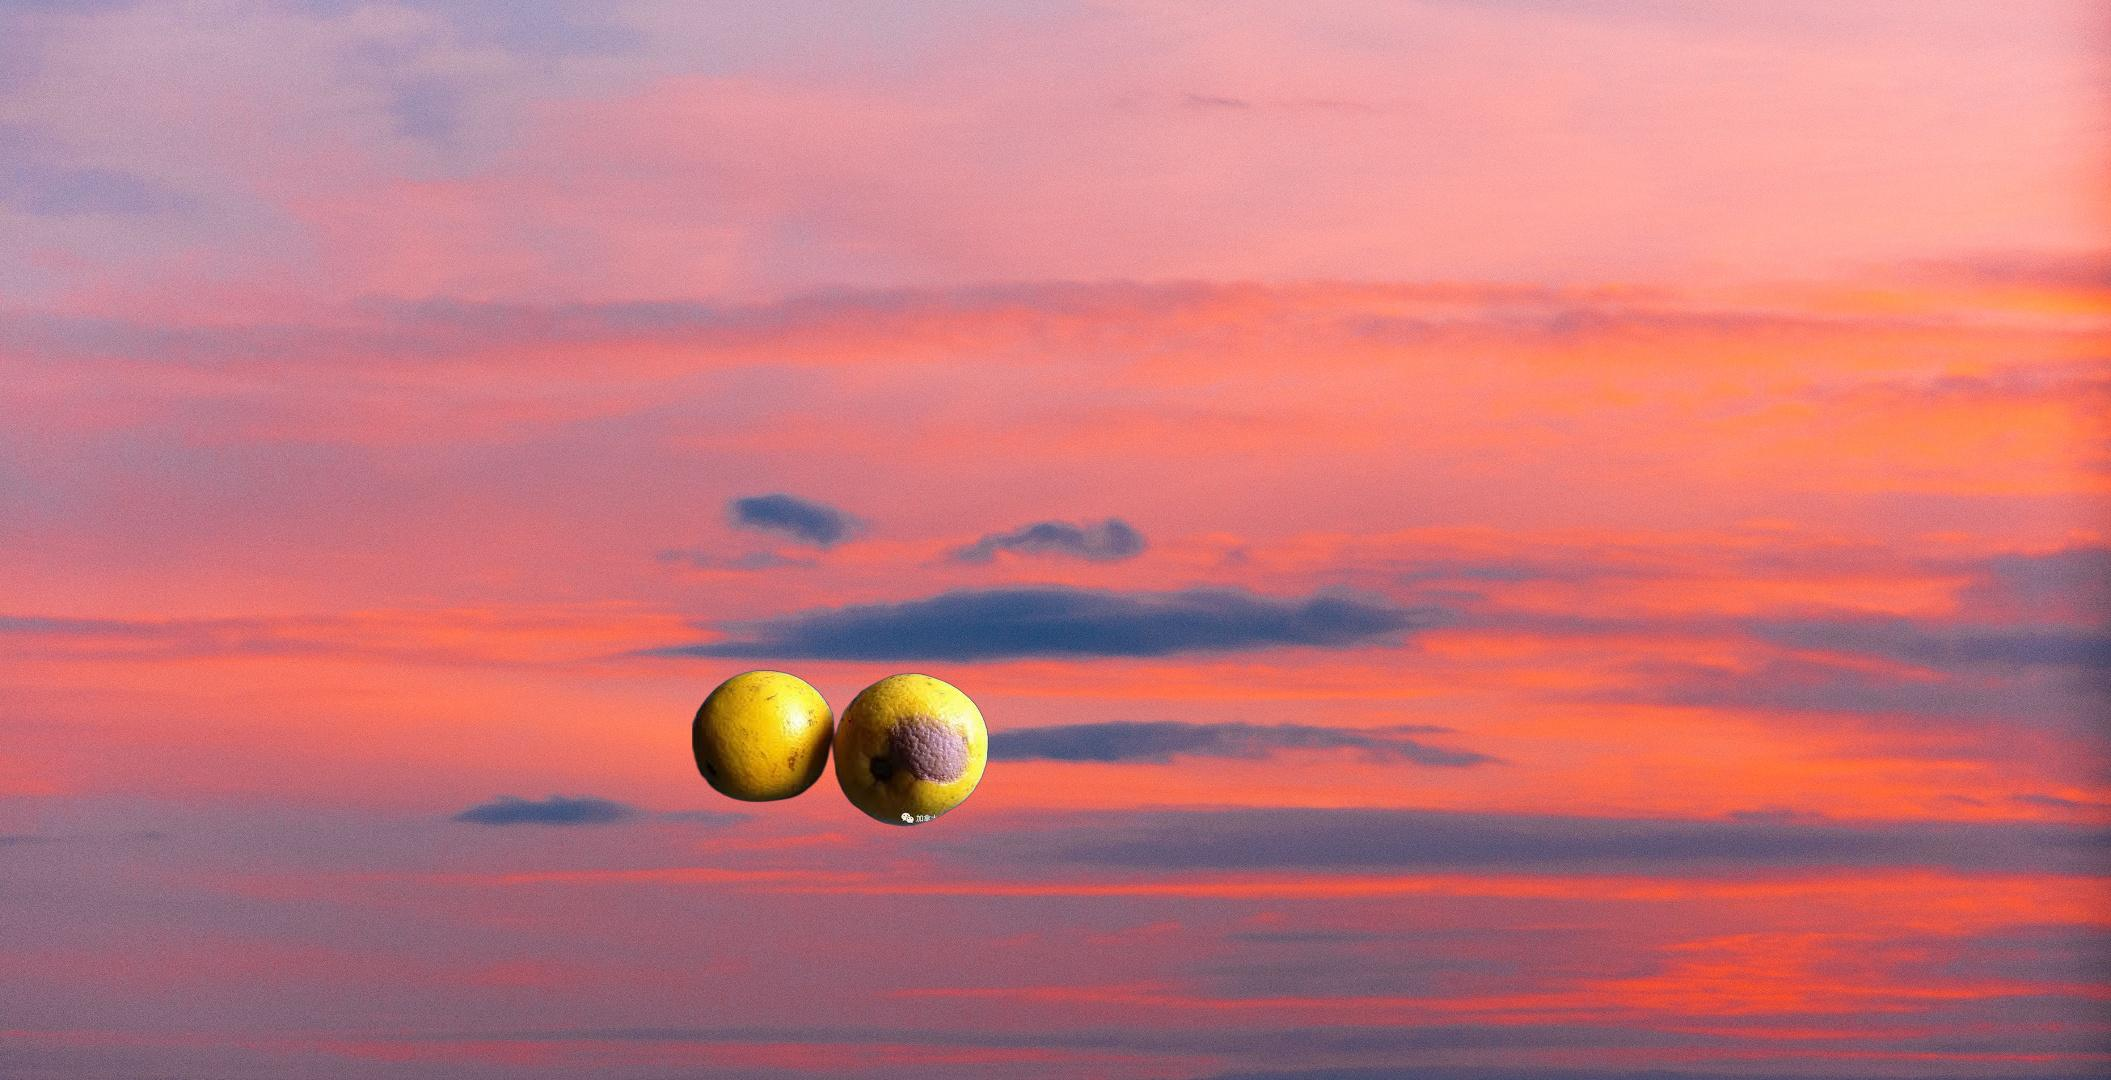biological: (692, 667, 991, 829)
